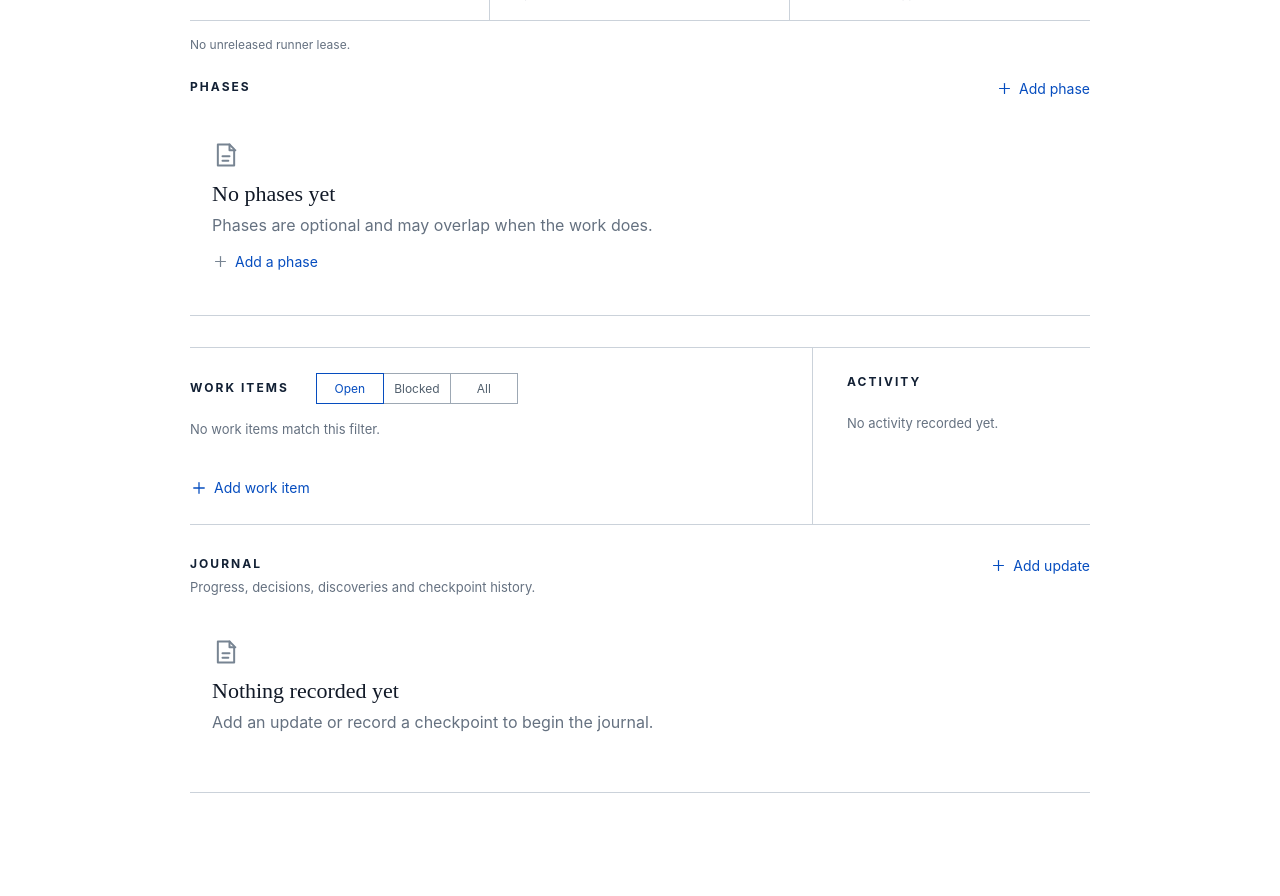
Test case: ProjectPage › refreshes operational memory after saving a work item
(page scrolled)
Click the button "Add work item".
click(250, 488)  # box x1=190 y1=478 x2=310 y2=498
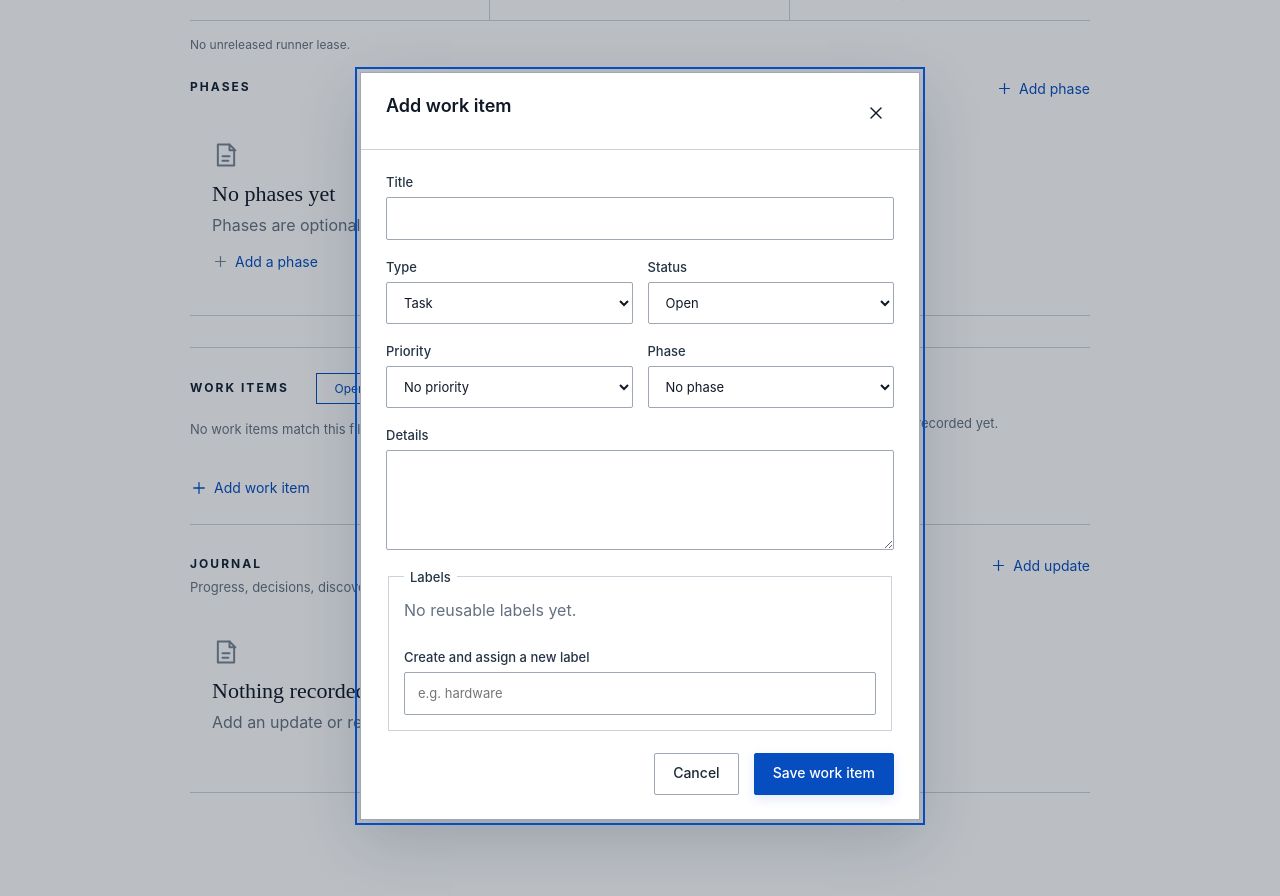
Type "Calibrate receiver" into the field labelled "Title".
click(640, 219); type("Calibrate receiver")  # box x1=386 y1=198 x2=894 y2=240
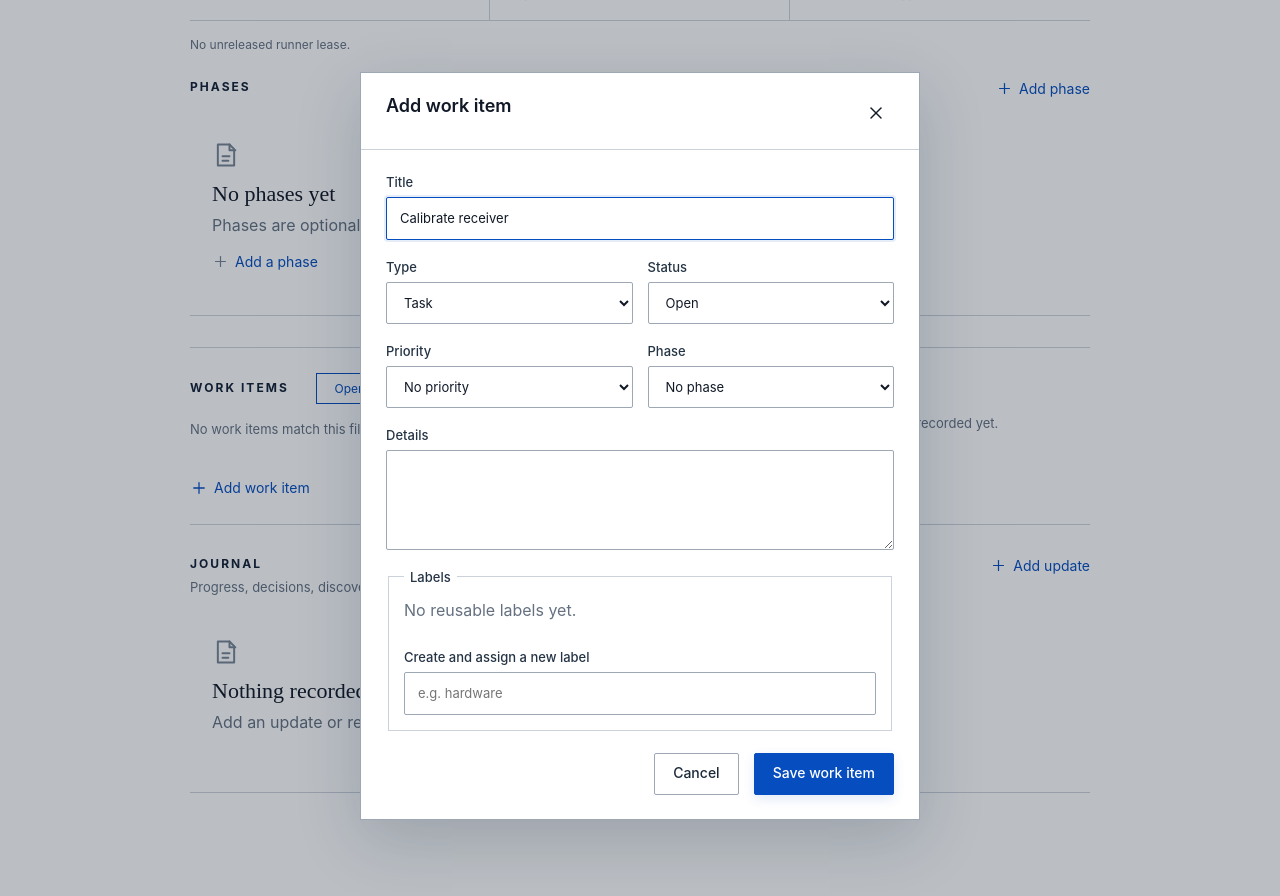
Click the button "Save work item".
click(824, 774)  # box x1=754 y1=752 x2=894 y2=794
(page scrolled)
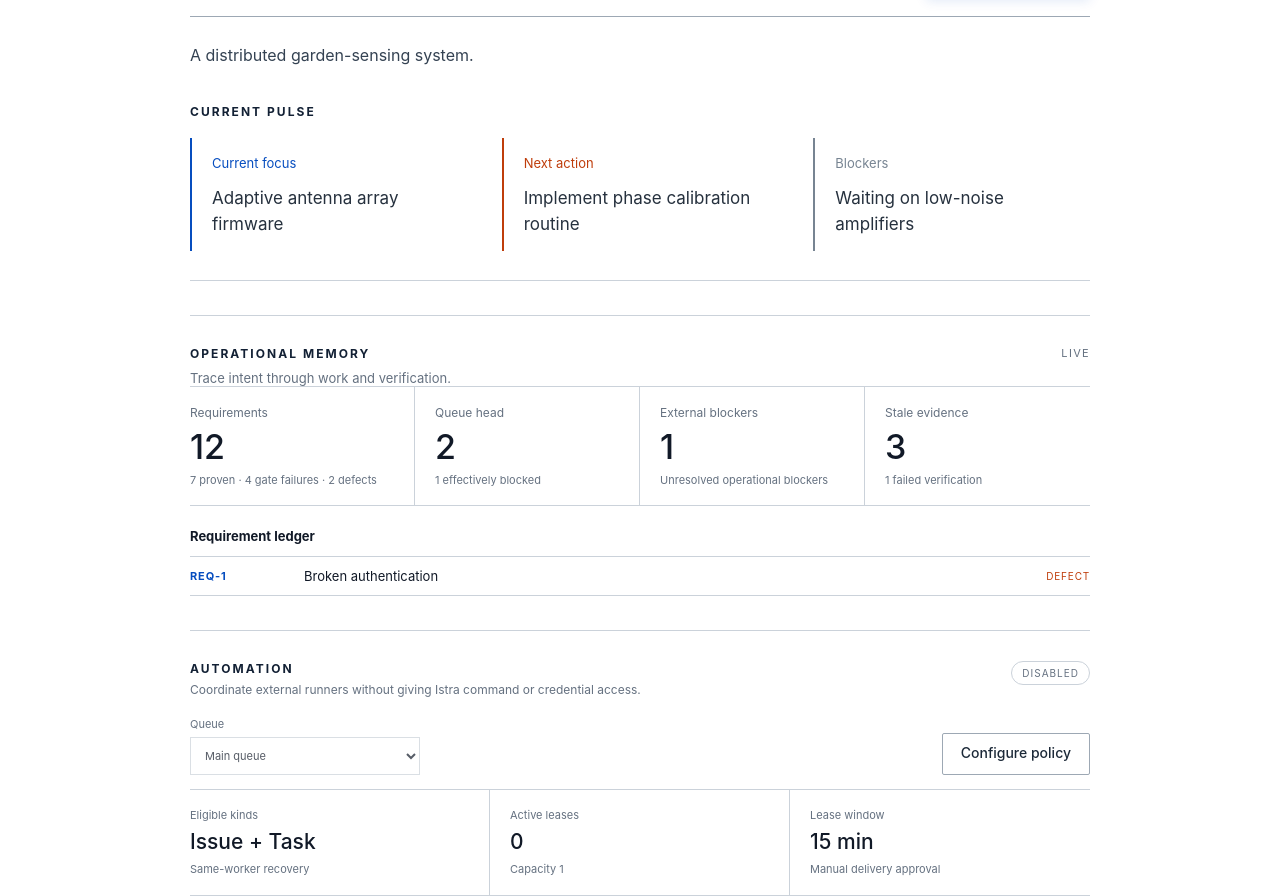
Expected: the text "Queue head" is shown, x1=435 y1=405 x2=504 y2=420
Result: the text "2" is shown at x1=435 y1=426 x2=456 y2=467
